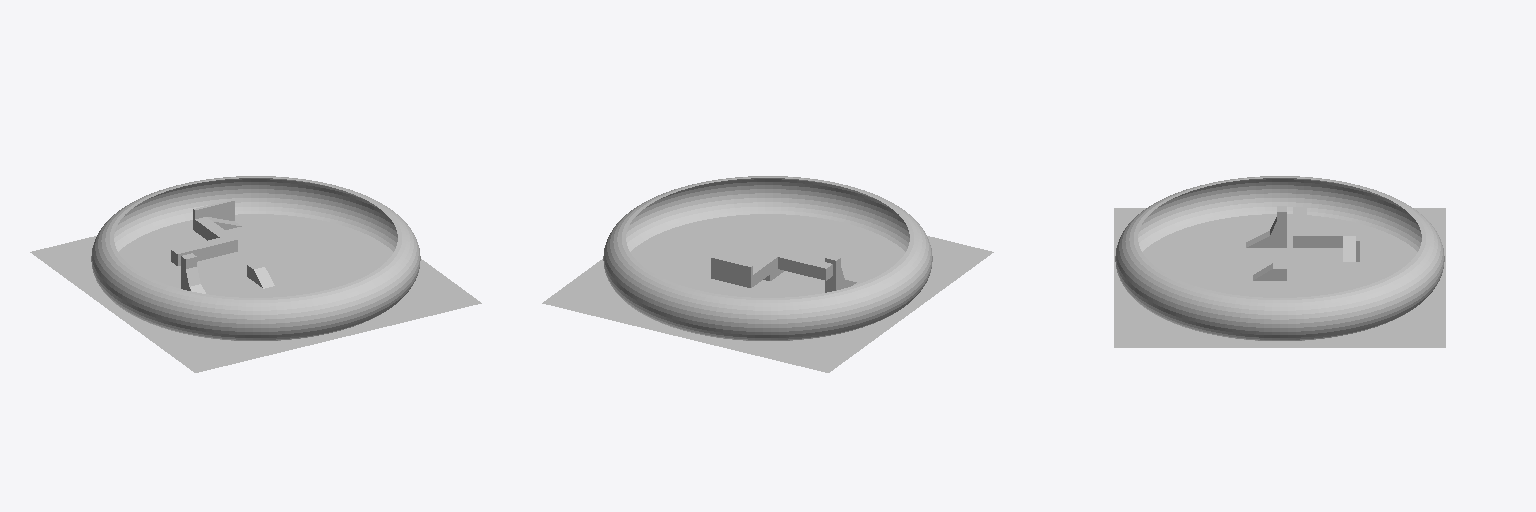
The model's file is mop3.obj.
3 renders of one model, left to right at view 1: azimuth 30°, elevation 25°; view 2: azimuth 150°, elevation 25°; view 3: azimuth 270°, elevation 25°, orthographic.
Visible parts, largest first — view 1: Plane; view 2: Plane; view 3: Plane.
Boxes of the visible parts, <box> form: Plane: <box>30,176,481,372</box>; Plane: <box>542,176,993,372</box>; Plane: <box>1114,176,1445,347</box>.
Size of the model in its own units: 100 by 15.53 by 100.